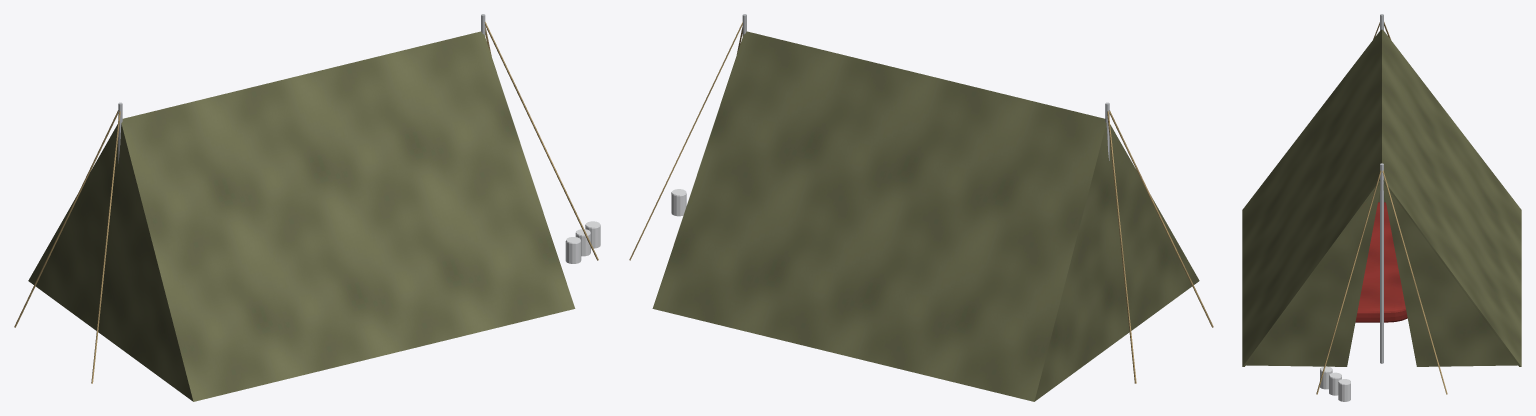
The model's file is barraca_camping.glb.
The picture shows the model from 3 angles, left to right: view 1: azimuth 30°, elevation 25°; view 2: azimuth 150°, elevation 25°; view 3: azimuth 270°, elevation 25°; orthographic projection. The views are drawn at different scales.
Parts seen in each view (by area): view 1: barraca_camping_lona, barraca_camping_corda, barraca_camping_lata; view 2: barraca_camping_lona, barraca_camping_corda; view 3: barraca_camping_lona, barraca_camping_tecido_vermelho, barraca_camping_corda, barraca_camping_aco, barraca_camping_lata.
Boxes of the visible parts, x1=… form: barraca_camping_lona: x1=28, y1=31, x2=575, y2=401; barraca_camping_corda: x1=14, y1=22, x2=598, y2=383; barraca_camping_lata: x1=565, y1=221, x2=600, y2=263; barraca_camping_lona: x1=652, y1=31, x2=1199, y2=401; barraca_camping_corda: x1=629, y1=22, x2=1213, y2=383; barraca_camping_lona: x1=1242, y1=29, x2=1521, y2=366; barraca_camping_tecido_vermelho: x1=1355, y1=202, x2=1407, y2=322; barraca_camping_corda: x1=1316, y1=22, x2=1447, y2=394; barraca_camping_aco: x1=1380, y1=14, x2=1383, y2=363; barraca_camping_lata: x1=1320, y1=366, x2=1350, y2=401.
Size of the model in its own units: 2.75 by 1.18 by 1.5.
6 materials, 4 textured.
